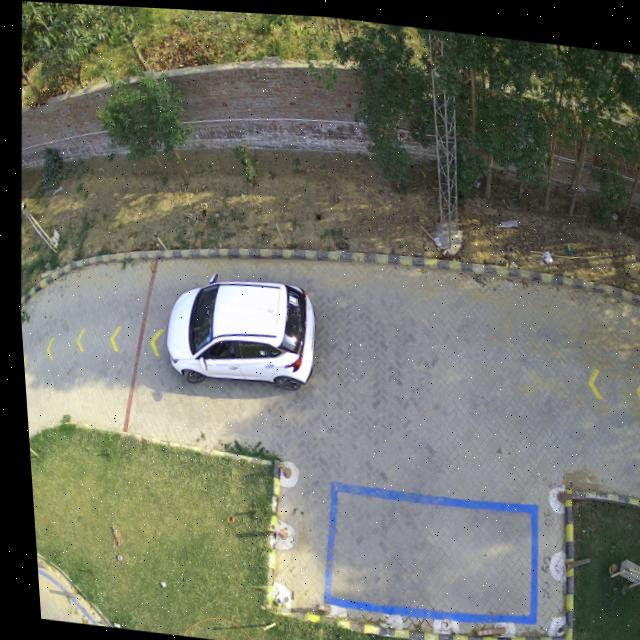car: (161, 274, 311, 387)
